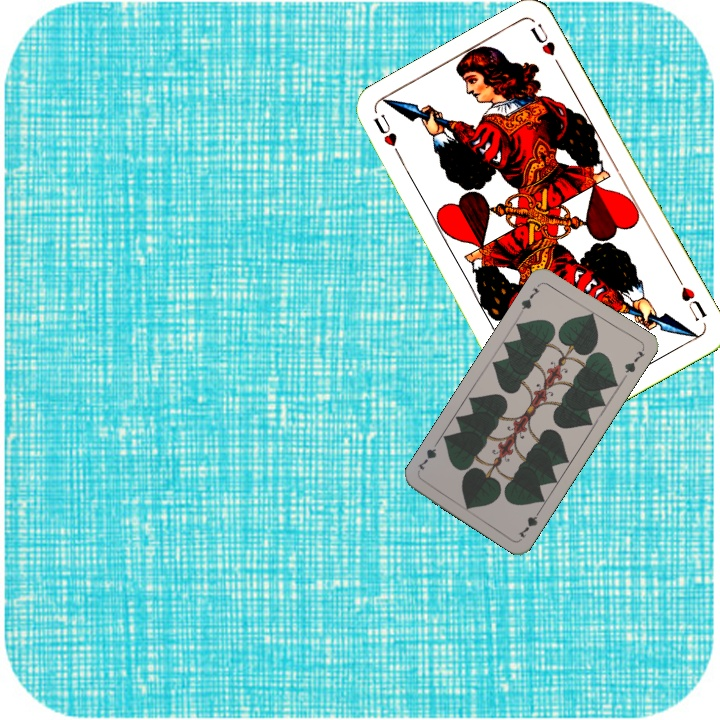G7: (514, 504, 544, 541), (516, 284, 543, 316)
HU: (369, 110, 406, 165), (673, 273, 710, 324)
